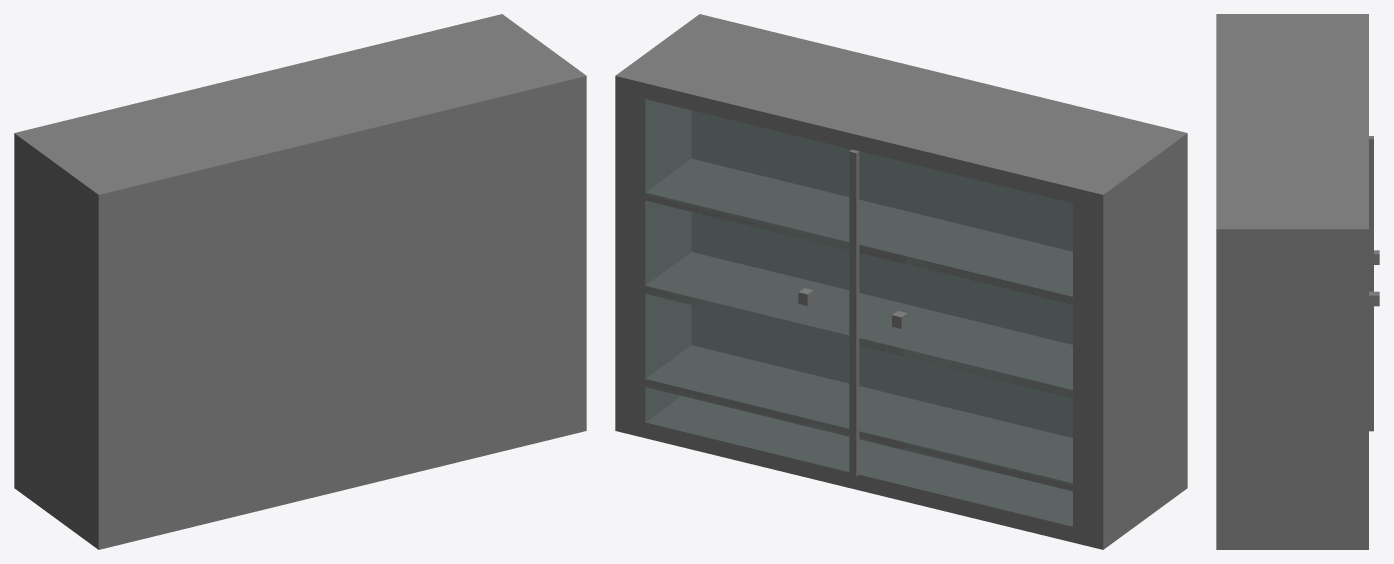
File: Grocery Fridge.fbx
3 views of the same model, side by side, from view 1: azimuth 30°, elevation 25°; view 2: azimuth 150°, elevation 25°; view 3: azimuth 270°, elevation 25° (orthographic). The views are drawn at different scales.
Parts seen in each view (by area): view 1: Plane.057; view 2: Plane.057; view 3: Plane.057.
Boxes of the visible parts, <box> form: Plane.057: <box>14,14,586,549</box>; Plane.057: <box>615,14,1187,549</box>; Plane.057: <box>1216,14,1379,549</box>.
Bounding box in the file's own units: 400 × 278 × 128.
